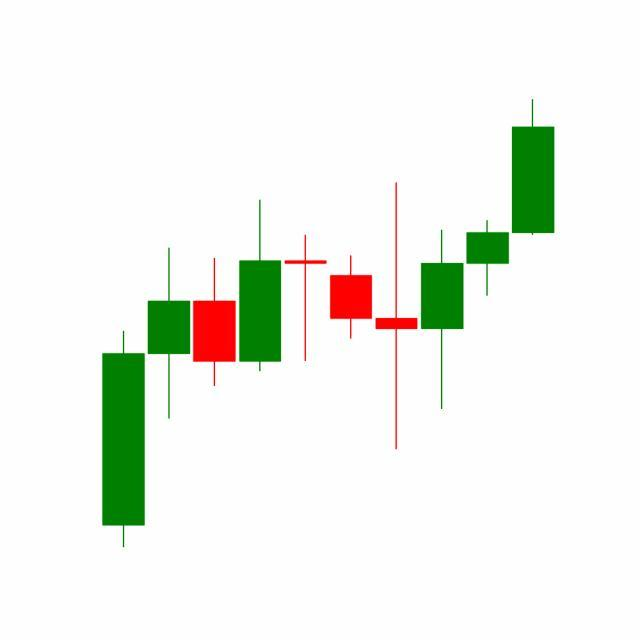Hikkake Pattern: (283, 179, 512, 453)
